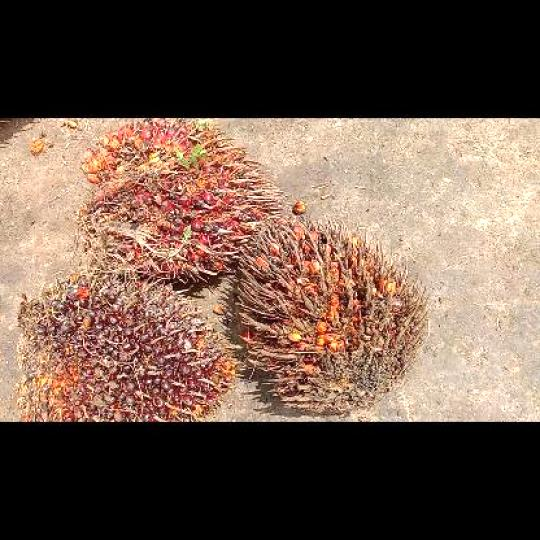kurang masak: (17, 273, 237, 420)
masak: (77, 117, 289, 280)
terlalu masak: (234, 216, 428, 412)
